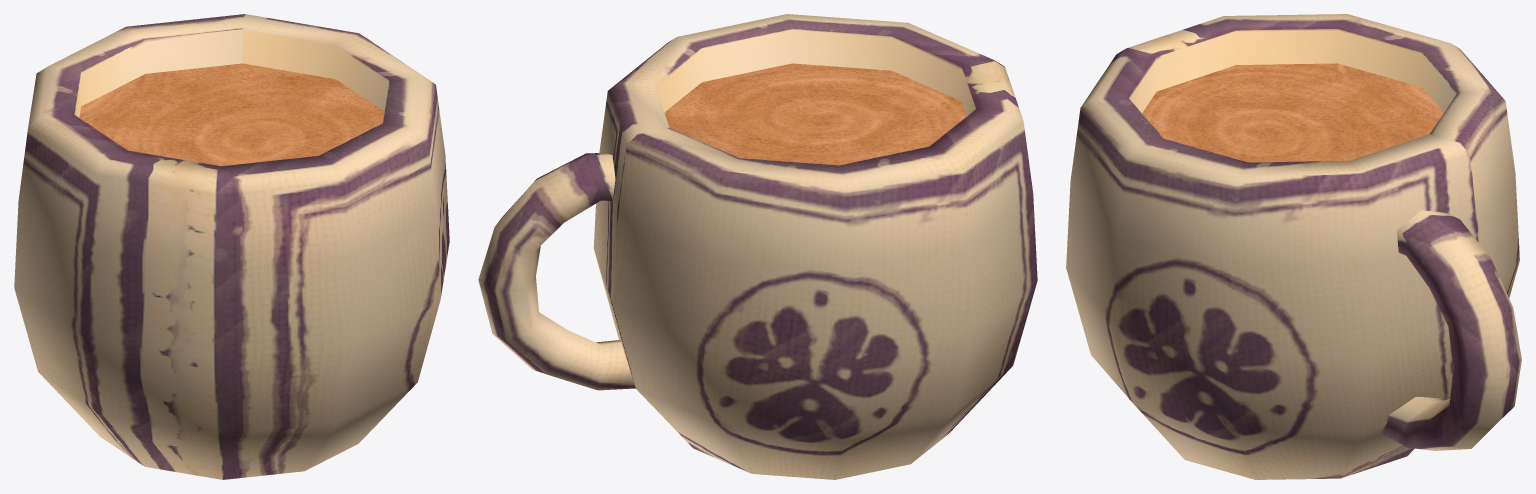
The model's file is Cup_C.glb.
The picture shows the model from 3 angles, left to right: view 1: azimuth 30°, elevation 25°; view 2: azimuth 150°, elevation 25°; view 3: azimuth 270°, elevation 25°; orthographic projection.
Parts seen in each view (by area): view 1: Cup_C; view 2: Cup_C; view 3: Cup_C.
Boxes of the visible parts, x1=… form: Cup_C: x1=14, y1=14, x2=449, y2=479; Cup_C: x1=478, y1=14, x2=1037, y2=479; Cup_C: x1=1066, y1=14, x2=1521, y2=479.
Bounding box in the file's own units: 0.3242 × 0.2364 × 0.2974.
1 material, 1 textured.
